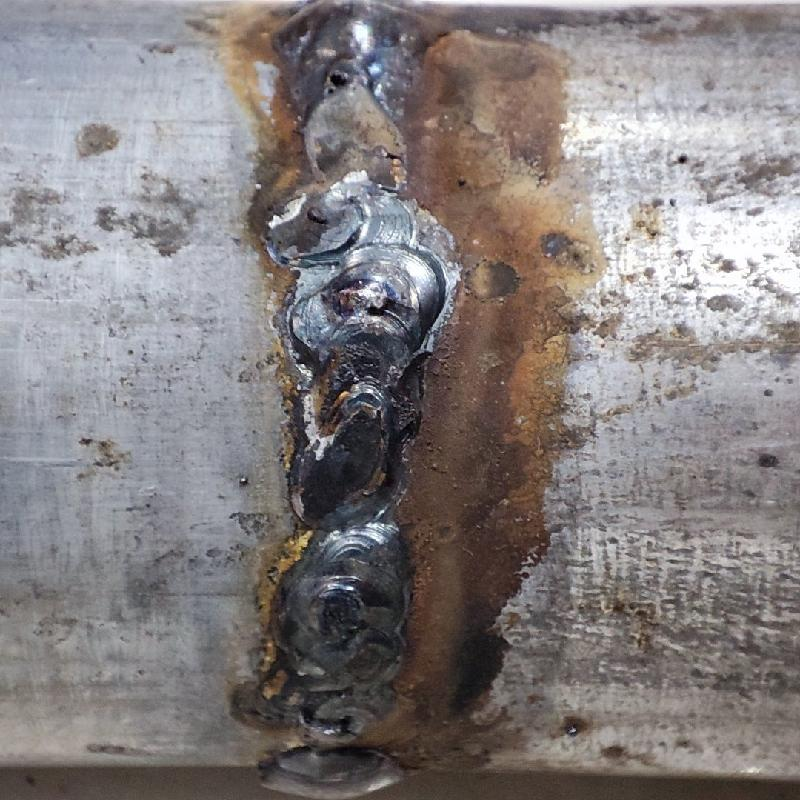Not_fully_soldered: (266, 85, 427, 250)
Surface_pores: (309, 60, 372, 105)
Weld: (240, 2, 443, 107)
wrong_size: (263, 252, 449, 681)
